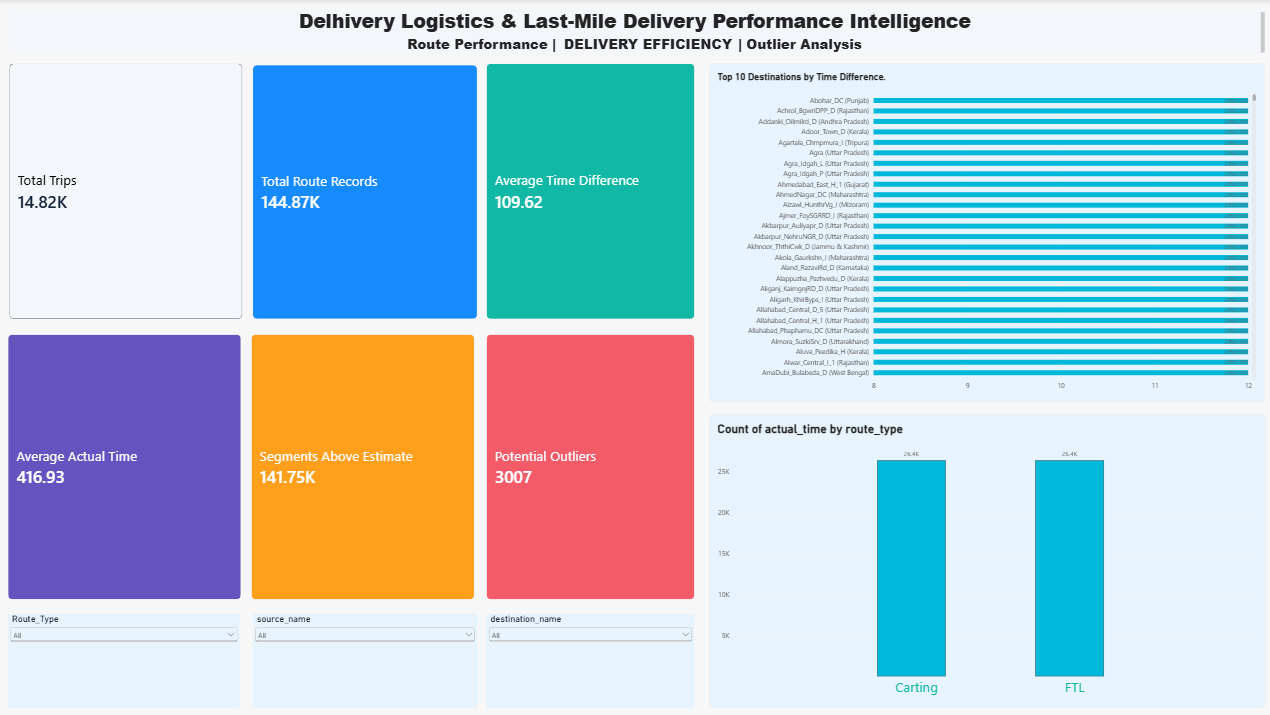

Layout of this report page (visuals, bound fields, positions):
{"tool":"powerbi","page":{"name":"Page 1","canvas":[2560,1440],"ordinal":0},"visuals":[{"type":"cardVisual","fields":{"Data":["delhivery_data_cleaned.Total Trips"]},"box":[25.1,128.5,466.5,511.2],"z":0},{"type":"cardVisual","fields":{"Data":["delhivery_data_cleaned.Total Route Records"]},"box":[511.2,131.3,449.7,508.4],"z":1000},{"type":"cardVisual","fields":{"Data":["delhivery_data_cleaned.Average Actual Time"]},"box":[22.3,670.4,466.5,530.7],"z":2000},{"type":"cardVisual","fields":{"Data":["delhivery_data_cleaned.Segments Above Estimate"]},"box":[508.4,670.4,446.9,530.7],"z":3000},{"type":"cardVisual","fields":{"Data":["delhivery_data_cleaned.Average Time Difference"]},"box":[980.4,128.5,416.2,511.2],"z":4000},{"type":"cardVisual","fields":{"Data":["delhivery_data_cleaned.Potential Outliers"]},"box":[980.4,670.4,416.2,530.7],"z":5000},{"type":"clusteredBarChart","title":"Top 10 Destinations by Time Difference.","fields":{"Category":["delhivery_data_cleaned.destination_name"],"Y":["Sum(delhivery_route_summary.time_difference)"]},"box":[1424.8,129.3,1111.2,676.6],"z":6000},{"type":"clusteredColumnChart","fields":{"Category":["delhivery_data_cleaned.route_type"],"Y":["CountNonNull(delhivery_route_summary.actual_time)"]},"box":[1424,831.8,1112.7,586.7],"z":7000},{"type":"slicer","fields":{"Values":["delhivery_data_cleaned.route_type"]},"box":[22.3,1229,463.7,189.9],"z":8000},{"type":"slicer","fields":{"Values":["delhivery_route_summary.source_name"]},"box":[511.2,1229,449.7,189.9],"z":9000},{"type":"slicer","fields":{"Values":["delhivery_route_summary.destination_name"]},"box":[980.4,1229,416.2,189.9],"z":10000},{"type":"textbox","box":[24.8,22,2511.3,85.3],"z":11000}]}

Visuals, with their boxes in screenshot pixels (x1, y1, x2, y2), scaled from the page's 2560x1440 canvas onto the 1270x715 screenshot:
cardVisual - delhivery_data_cleaned.Total Trips: <bbox>12, 64, 244, 318</bbox>
cardVisual - delhivery_data_cleaned.Total Route Records: <bbox>254, 65, 477, 318</bbox>
cardVisual - delhivery_data_cleaned.Average Actual Time: <bbox>11, 333, 242, 596</bbox>
cardVisual - delhivery_data_cleaned.Segments Above Estimate: <bbox>252, 333, 474, 596</bbox>
cardVisual - delhivery_data_cleaned.Average Time Difference: <bbox>486, 64, 693, 318</bbox>
cardVisual - delhivery_data_cleaned.Potential Outliers: <bbox>486, 333, 693, 596</bbox>
"Top 10 Destinations by Time Difference." clusteredBarChart: <bbox>707, 64, 1258, 400</bbox>
clusteredColumnChart - delhivery_data_cleaned.route_type x CountNonNull(delhivery_route_summary.actual_time): <bbox>706, 413, 1258, 704</bbox>
slicer - delhivery_data_cleaned.route_type: <bbox>11, 610, 241, 705</bbox>
slicer - delhivery_route_summary.source_name: <bbox>254, 610, 477, 705</bbox>
slicer - delhivery_route_summary.destination_name: <bbox>486, 610, 693, 705</bbox>
textbox: <bbox>12, 11, 1258, 53</bbox>
